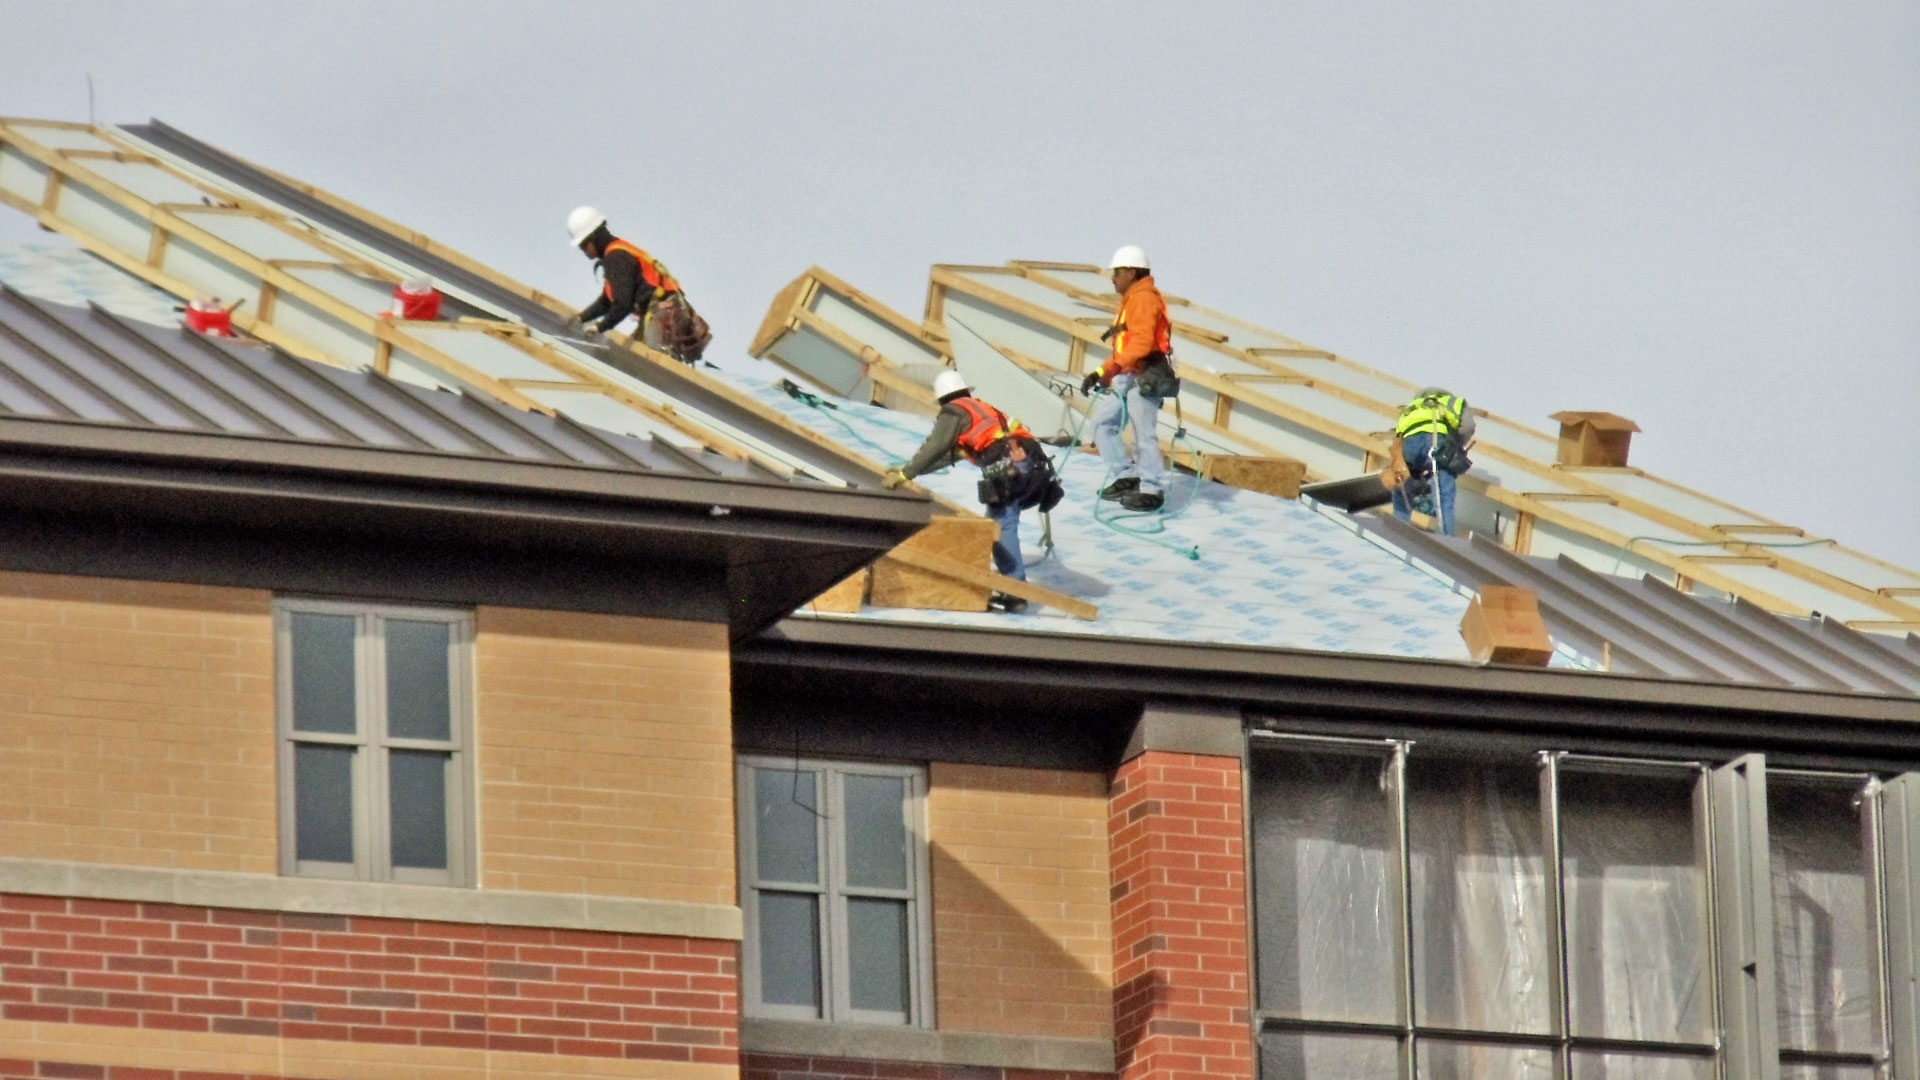white: (1109, 243, 1150, 291), (568, 208, 605, 255), (934, 368, 971, 409)
